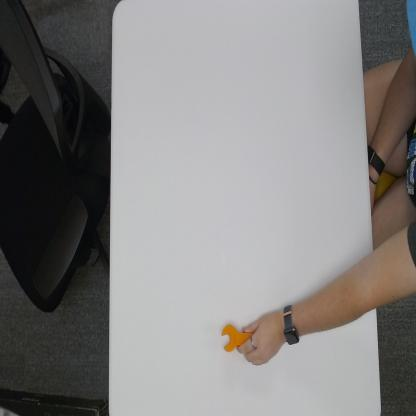Arm: (302, 238, 372, 339)
Hand: (237, 309, 282, 368)
Screwdriver: (220, 318, 253, 357)
